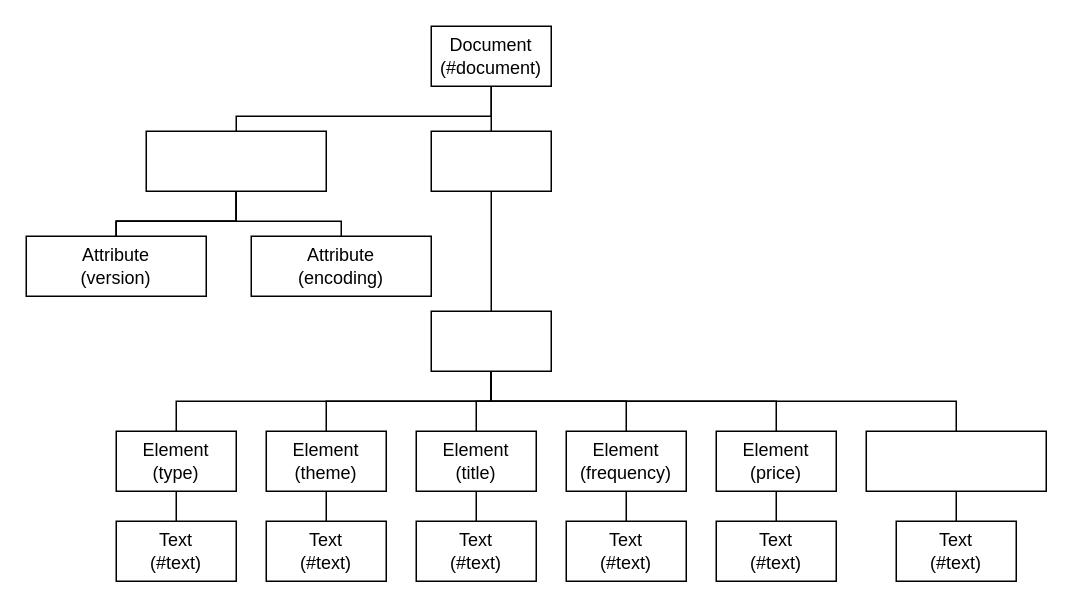
Image size: 1073x608. Some labels were removed from this diagram. The centre of each missing label's shape, as x and y in pixels:
"Element (publication)" belongs at point 490,340.
"Element (subscription_index)" belongs at point 955,460.
"Element (subscriptions)" belongs at point 490,160.
"ProcessingInstruction (xml)" belongs at point 235,160.
